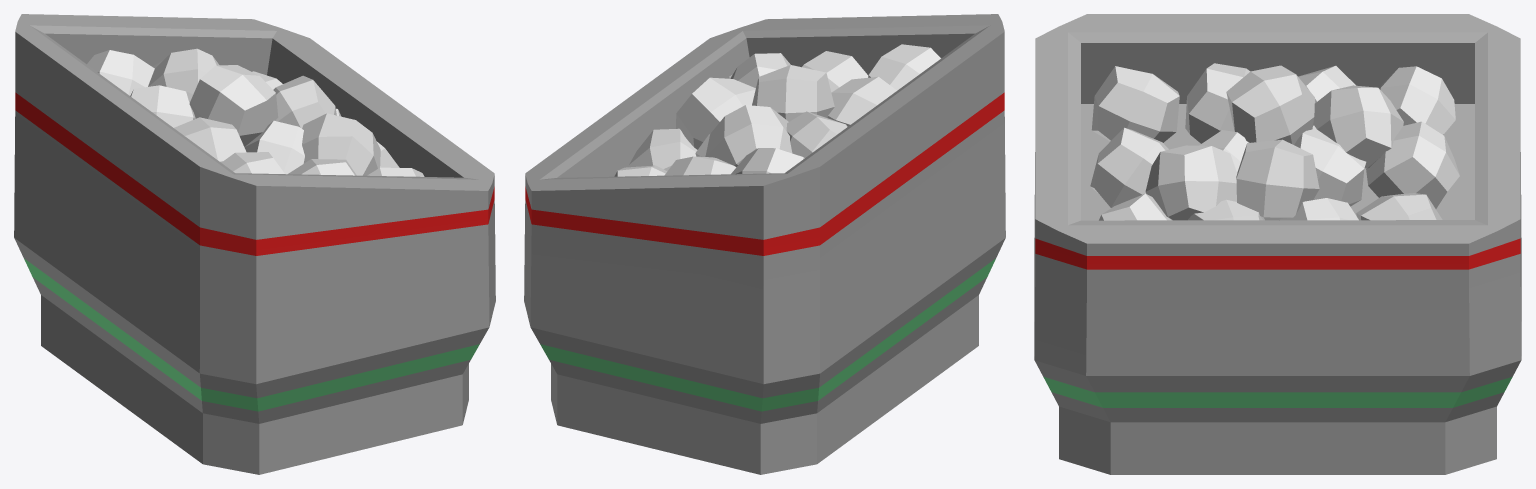
File: doughStation.fbx
3 renders of one model, left to right at view 1: azimuth 30°, elevation 25°; view 2: azimuth 150°, elevation 25°; view 3: azimuth 270°, elevation 25°, orthographic. The views are drawn at different scales.
Parts seen in each view (by area): view 1: DoughStationMatt, Dough.012, Dough.015, Dough.013, Dough.014, Dough.005, Dough.011, Dough.009, Dough.008, Dough.010, Dough.006; view 2: DoughStationMatt, Dough.014, Dough.012, Dough.013, Dough.009, Dough.010, Dough, Dough.008, Dough.006, Dough.011, Dough.015, Dough.007; view 3: DoughStationMatt, Dough.012, Dough.015, Dough.013, Dough.010, Dough.007, Dough.014, Dough.006, Dough.011, Dough.009, Dough.004, dough (+5 smaller).
Boxes of the visible parts, x1,y1,x2,y2 form: DoughStationMatt: (14, 14, 495, 474); Dough.012: (189, 65, 278, 146); Dough.015: (302, 113, 380, 175); Dough.013: (273, 75, 336, 128); Dough.014: (148, 48, 219, 94); Dough.005: (244, 120, 304, 174); Dough.011: (87, 50, 154, 95); Dough.009: (174, 117, 246, 162); Dough.008: (130, 85, 195, 127); Dough.010: (221, 152, 284, 173); Dough.006: (288, 159, 356, 175); DoughStationMatt: (524, 14, 1005, 474); Dough.014: (705, 105, 792, 166); Dough.012: (752, 65, 834, 121); Dough.013: (676, 77, 755, 149); Dough.009: (827, 76, 896, 126); Dough.010: (868, 44, 940, 90); Dough: (629, 128, 697, 171); Dough.008: (786, 111, 847, 157); Dough.006: (802, 51, 868, 92); Dough.011: (731, 148, 804, 174); Dough.015: (730, 53, 790, 88); Dough.007: (664, 156, 736, 175); DoughStationMatt: (1034, 14, 1521, 474); Dough.012: (1226, 65, 1314, 144); Dough.015: (1145, 145, 1237, 220); Dough.013: (1236, 139, 1319, 220); Dough.010: (1091, 66, 1179, 142); Dough.007: (1366, 121, 1459, 208); Dough.014: (1313, 85, 1403, 168); Dough.006: (1090, 127, 1168, 207); Dough.011: (1379, 66, 1455, 134); Dough.009: (1185, 63, 1250, 143); Dough.004: (1294, 125, 1366, 206); dough: (1356, 193, 1442, 220).
Bounding box in the file's own units: 1.86 × 1.35 × 1.35.
